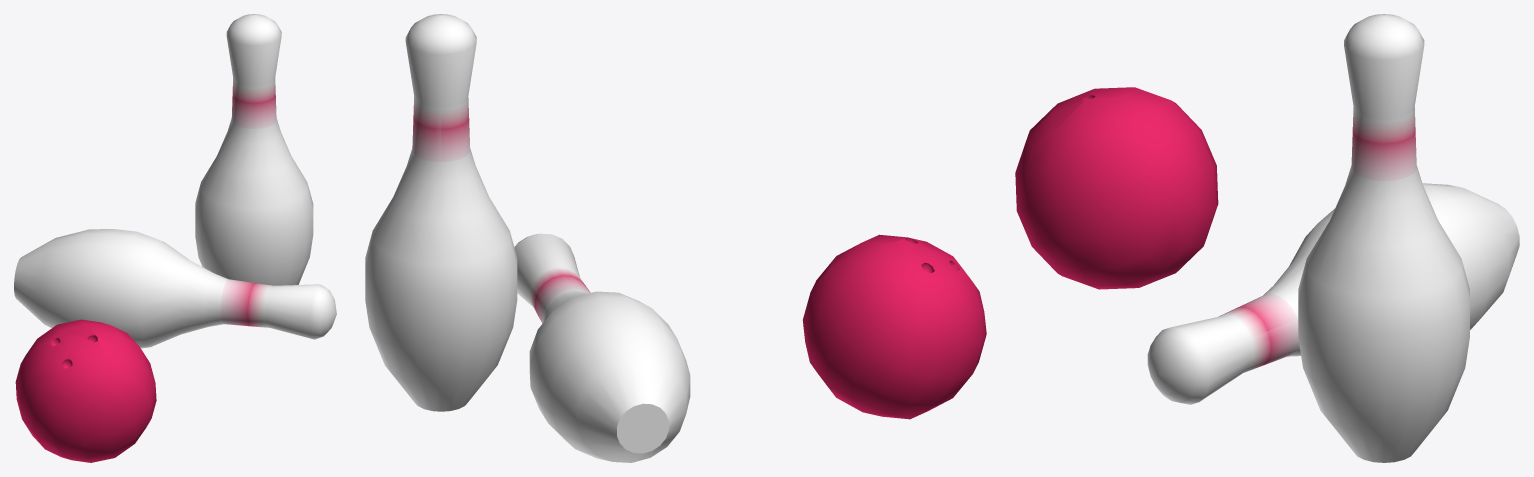
Rendered from Bowling.FBX.
3 views of the same model, side by side, from view 1: azimuth 30°, elevation 25°; view 2: azimuth 150°, elevation 25°; view 3: azimuth 270°, elevation 25° (orthographic). The views are drawn at different scales.
Visible parts, largest first — view 1: BowlingPIN, Ball; view 2: BowlingPIN, Ball; view 3: BowlingPIN, Ball.
Part boxes in pixels (x1=…): BowlingPIN: x1=14, y1=14, x2=336, y2=348; Ball: x1=15, y1=319, x2=156, y2=462; BowlingPIN: x1=365, y1=14, x2=690, y2=462; Ball: x1=802, y1=234, x2=986, y2=419; BowlingPIN: x1=1147, y1=14, x2=1519, y2=462; Ball: x1=1015, y1=87, x2=1218, y2=289.
Bounding box in the file's own units: 508 × 403 × 409.
